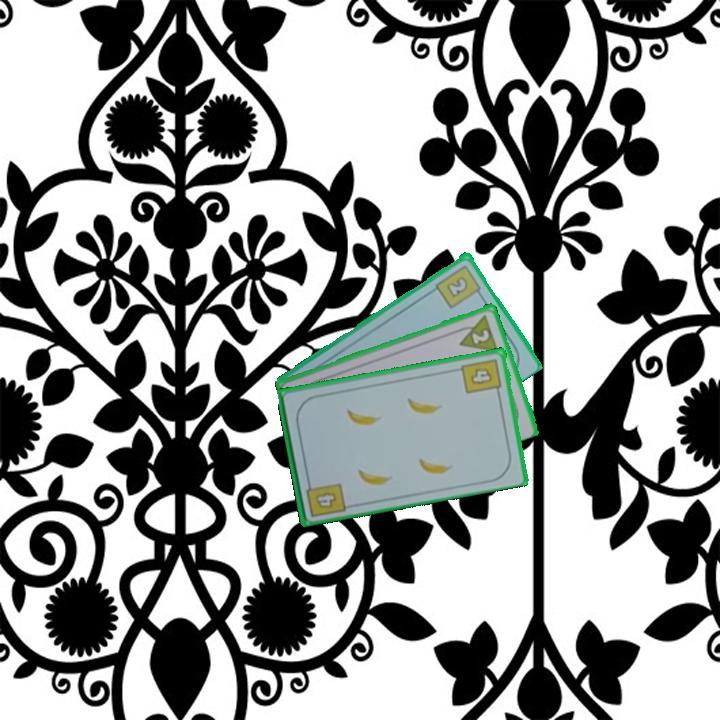2b: (432, 261, 485, 311)
2p: (452, 311, 501, 354)
4b: (302, 475, 348, 520), (458, 355, 505, 398)
